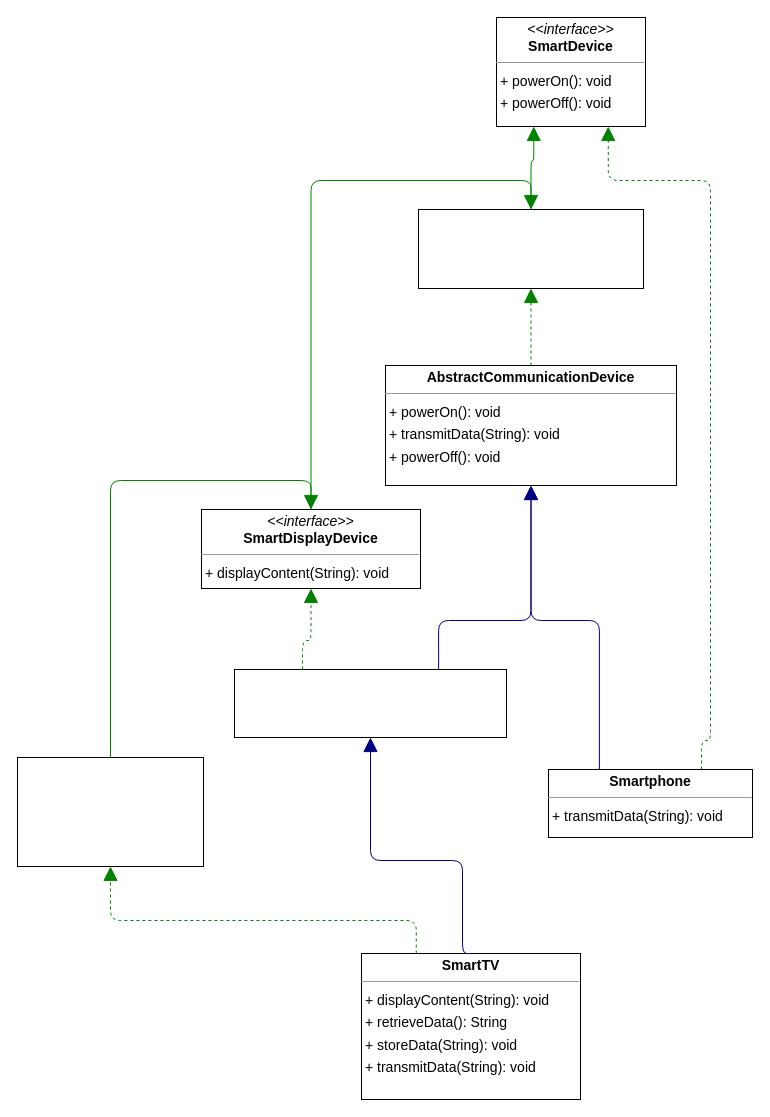
Image size: 770x1117. Some labels were removed from this diagram. Each missing label, with the centre of its shape:
"<<interface>> CommunicationDevice + transmitData(String): void" belongs at point (531, 248).
"<<interface>> StorageDevice + retrieveData(): String + storeData(String): void" belongs at point (110, 811).
"AbstractSmartDisplayDevice + displayContent(String): void" belongs at point (370, 703).
